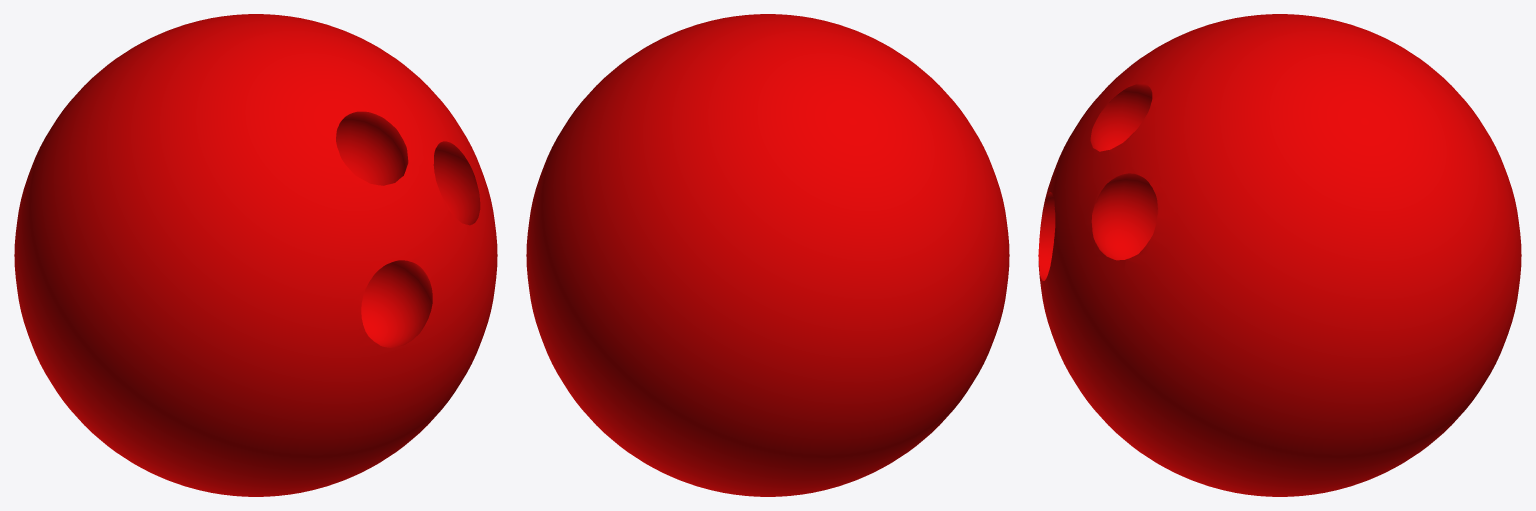
File: boule.fbx
3 views of the same model, side by side, from view 1: azimuth 30°, elevation 25°; view 2: azimuth 150°, elevation 25°; view 3: azimuth 270°, elevation 25° (orthographic).
Visible parts, largest first — view 1: pSphere7; view 2: pSphere7; view 3: pSphere7.
Part boxes in pixels (bbox=[...]): pSphere7: bbox=[14, 14, 497, 496]; pSphere7: bbox=[526, 14, 1009, 496]; pSphere7: bbox=[1038, 14, 1521, 496].
Size of the model in its own units: 5.36 by 5.36 by 5.36.
